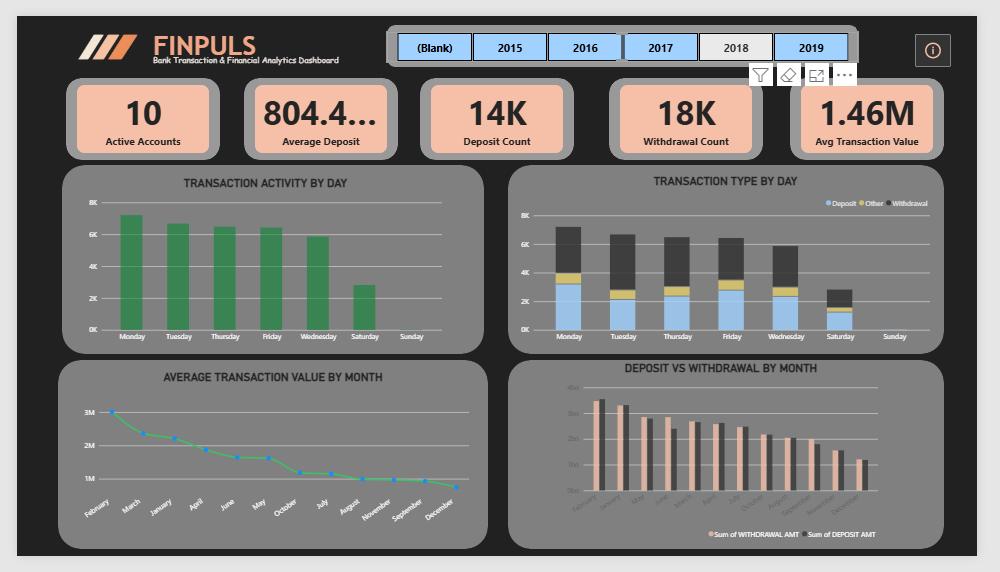

The dashboard page shown, as its layout file describes it:
{"tool":"powerbi","page":{"name":"Page 2","canvas":[1920,1080],"ordinal":1},"visuals":[{"type":"shape","box":[740,18,942,84],"z":0},{"type":"shape","box":[982,298,872,378],"z":1},{"type":"shape","box":[82,688,860,378],"z":2},{"type":"shape","box":[90,298,844,378],"z":3},{"type":"shape","box":[982,688,872,378],"z":4},{"type":"shape","box":[1546,124,308,164],"z":5},{"type":"shape","box":[1184,124,308,164],"z":6},{"type":"shape","box":[806,124,308,164],"z":7},{"type":"shape","box":[454,124,308,164],"z":8},{"type":"shape","box":[98,124,308,164],"z":9},{"type":"textbox","box":[272,28,214,96],"z":10},{"type":"textbox","box":[272,76,762.9,51.4],"z":11},{"type":"image","box":[58,0,246,124],"z":12},{"type":"cardVisual","fields":{"Data":["FinPulse_PowerBI.Active Accounts"]},"box":[120,138,264,136],"z":13},{"type":"cardVisual","fields":{"Data":["FinPulse_PowerBI.Average Deposit"]},"box":[476,138,264,136],"z":14},{"type":"cardVisual","fields":{"Data":["FinPulse_PowerBI.Deposit Count"]},"box":[828,138,264,136],"z":15},{"type":"cardVisual","fields":{"Data":["FinPulse_PowerBI.Withdrawal Count"]},"box":[1206,138,264,136],"z":16},{"type":"cardVisual","fields":{"Data":["FinPulse_PowerBI.Avg Transaction Value"]},"box":[1568,138,264,136],"z":17},{"type":"clusteredColumnChart","title":"TRANSACTION ACTIVITY BY DAY","fields":{"Category":["FinPulse_PowerBI.DAY NAME"],"Y":["CountNonNull(FinPulse_PowerBI.Account No)"]},"box":[144,320,706,336],"z":18},{"type":"columnChart","title":"TRANSACTION TYPE BY DAY","fields":{"Category":["FinPulse_PowerBI.DAY NAME"],"Series":["FinPulse_PowerBI.TRANSACTION TYPE"],"Y":["FinPulse_PowerBI.Total Transactions"]},"box":[1008,316,818,340],"z":19},{"type":"lineChart","title":"AVERAGE TRANSACTION VALUE BY MONTH","fields":{"Category":["FinPulse_PowerBI.MONTH NAME"],"Y":["FinPulse_PowerBI.Avg Transaction Value"]},"box":[120,708,784,322],"z":20},{"type":"clusteredColumnChart","title":"DEPOSIT VS WITHDRAWAL BY MONTH","fields":{"Category":["FinPulse_PowerBI.MONTH NAME"],"Y":["Sum(FinPulse_PowerBI.WITHDRAWAL AMT)","Sum(FinPulse_PowerBI.DEPOSIT AMT)"]},"box":[1094,690,628,360],"z":21},{"type":"slicer","fields":{"Values":["FinPulse_PowerBI.YEAR"]},"box":[740,32,942,60],"z":22},{"type":"actionButton","box":[1796,36,72,66],"z":23}]}

Visuals, with their boxes in screenshot pixels (x1, y1, x2, y2), scaled from the page's 1920x1080 canvas onto the 1000x572 screenshot:
shape: box=[385, 10, 876, 54]
shape: box=[511, 158, 966, 358]
shape: box=[43, 364, 491, 565]
shape: box=[47, 158, 486, 358]
shape: box=[511, 364, 966, 565]
shape: box=[805, 66, 966, 153]
shape: box=[617, 66, 777, 153]
shape: box=[420, 66, 580, 153]
shape: box=[236, 66, 397, 153]
shape: box=[51, 66, 211, 153]
textbox: box=[142, 15, 253, 66]
textbox: box=[142, 40, 539, 67]
image: box=[30, 0, 158, 66]
cardVisual - FinPulse_PowerBI.Active Accounts: box=[63, 73, 200, 145]
cardVisual - FinPulse_PowerBI.Average Deposit: box=[248, 73, 385, 145]
cardVisual - FinPulse_PowerBI.Deposit Count: box=[431, 73, 569, 145]
cardVisual - FinPulse_PowerBI.Withdrawal Count: box=[628, 73, 766, 145]
cardVisual - FinPulse_PowerBI.Avg Transaction Value: box=[817, 73, 954, 145]
"TRANSACTION ACTIVITY BY DAY" clusteredColumnChart: box=[75, 169, 443, 347]
"TRANSACTION TYPE BY DAY" columnChart: box=[525, 167, 951, 347]
"AVERAGE TRANSACTION VALUE BY MONTH" lineChart: box=[63, 375, 471, 546]
"DEPOSIT VS WITHDRAWAL BY MONTH" clusteredColumnChart: box=[570, 365, 897, 556]
slicer - FinPulse_PowerBI.YEAR: box=[385, 17, 876, 49]
actionButton: box=[935, 19, 973, 54]
